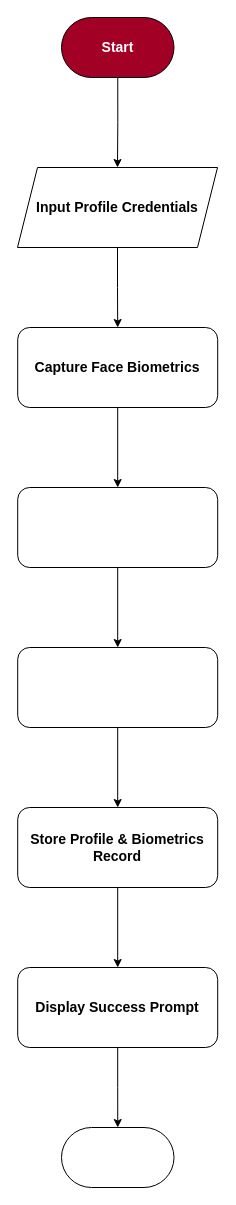
The diagram is 236 pixels wide and 1205 high, and some of its shapes have lost their labels. Each missing label, with the centre of its shape:
End: point (117, 1157)
Extract Facial Features: point (117, 687)
Validate Registration Data: point (117, 527)
